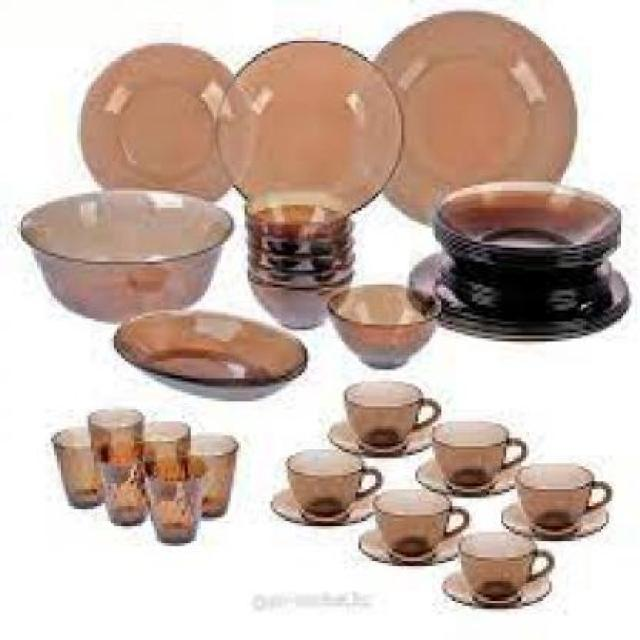kaca: (371, 6, 575, 225), (214, 37, 398, 217), (74, 40, 254, 205), (17, 188, 231, 318), (405, 244, 626, 336), (110, 310, 304, 402), (435, 182, 617, 268), (322, 278, 432, 368), (242, 202, 352, 282), (284, 446, 378, 516), (370, 490, 468, 556), (342, 382, 438, 446), (458, 529, 552, 594), (245, 274, 352, 331), (429, 419, 523, 483), (516, 463, 610, 526), (143, 449, 200, 540), (174, 430, 234, 512), (52, 424, 110, 504), (440, 566, 549, 606), (355, 523, 463, 563), (412, 452, 520, 492), (325, 416, 432, 456), (94, 444, 148, 522), (268, 484, 372, 522), (500, 498, 603, 536), (242, 188, 344, 225), (86, 406, 140, 456), (140, 418, 188, 460)
